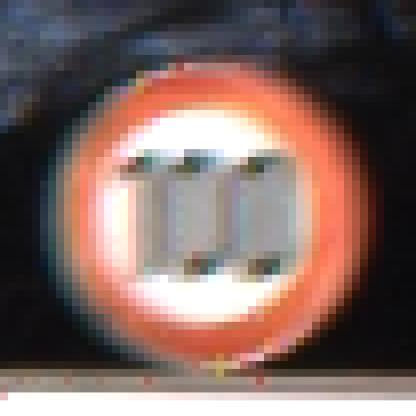Speed Limit 100: (58, 65, 357, 367)
